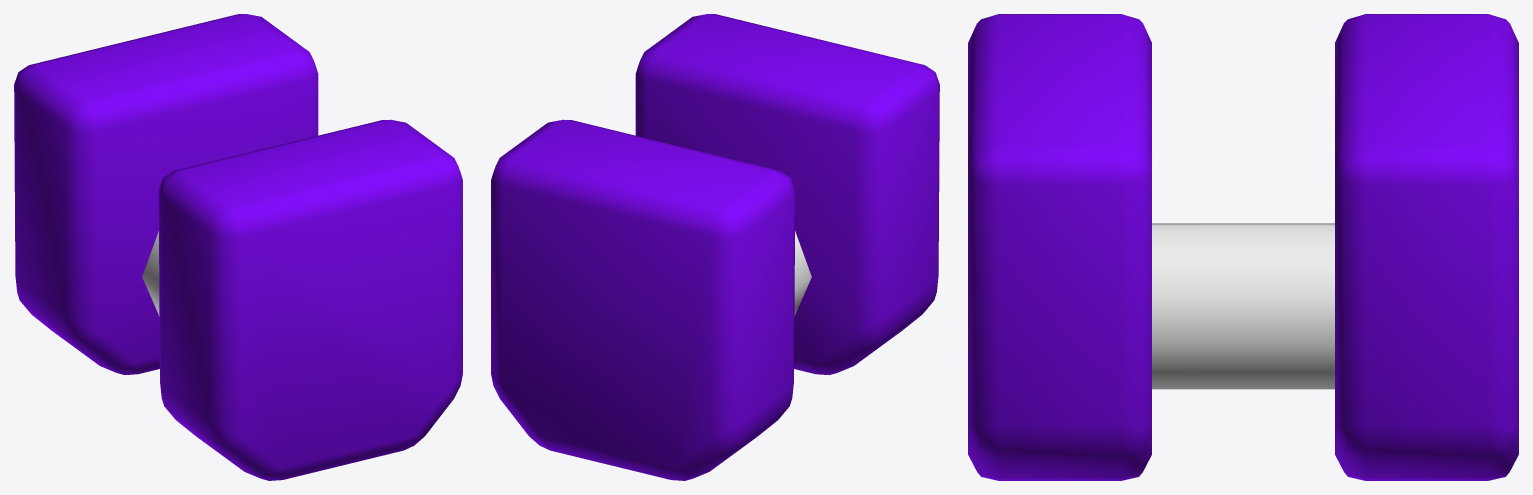
Rendered from Hanging_Hammer_Socket_06.fbx.
3 views of the same model, side by side, from view 1: azimuth 30°, elevation 25°; view 2: azimuth 150°, elevation 25°; view 3: azimuth 270°, elevation 25° (orthographic). The views are drawn at different scales.
Parts seen in each view (by area): view 1: Obstacle_Hanging_Hammer_Socket_06; view 2: Obstacle_Hanging_Hammer_Socket_06; view 3: Obstacle_Hanging_Hammer_Socket_06.
Boxes of the visible parts, x1,y1,x2,y2 form: Obstacle_Hanging_Hammer_Socket_06: [14, 14, 462, 480]; Obstacle_Hanging_Hammer_Socket_06: [491, 14, 939, 480]; Obstacle_Hanging_Hammer_Socket_06: [968, 14, 1518, 480].
Bounding box in the file's own units: 50 × 54.18 × 74.84.
Materials: 1 (1 with a texture image).
